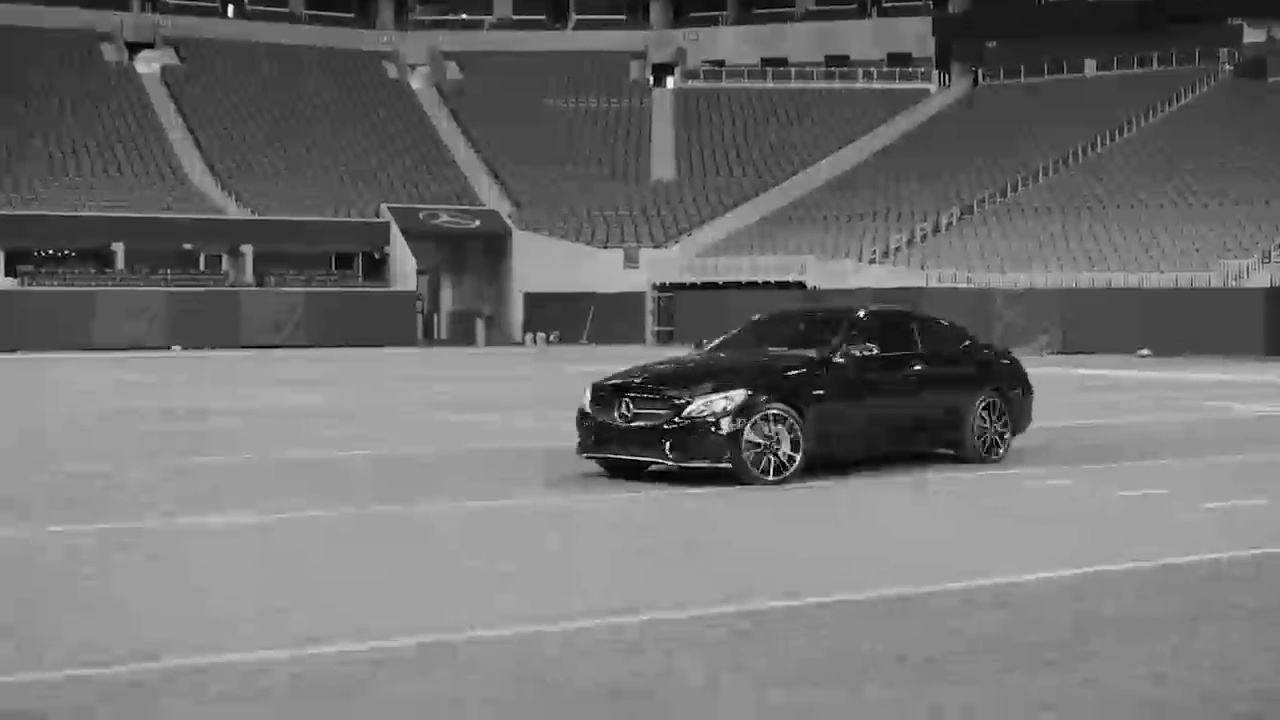car: (567, 304, 1045, 475)
